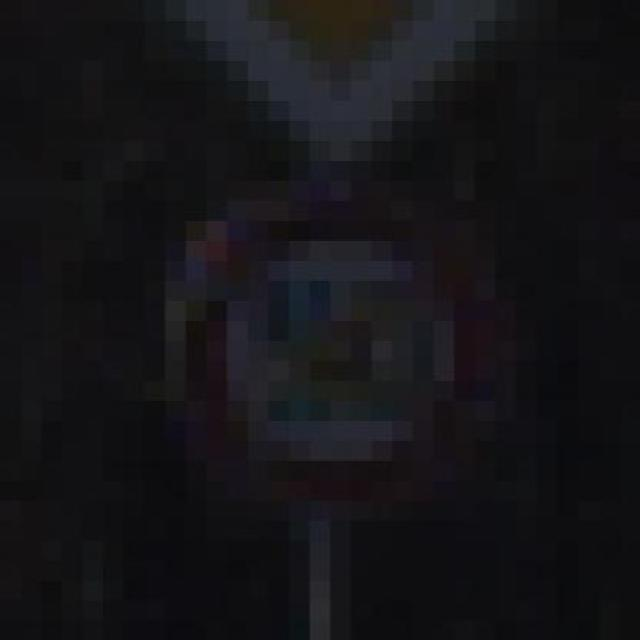50 mph speed limit: (165, 180, 558, 520)
